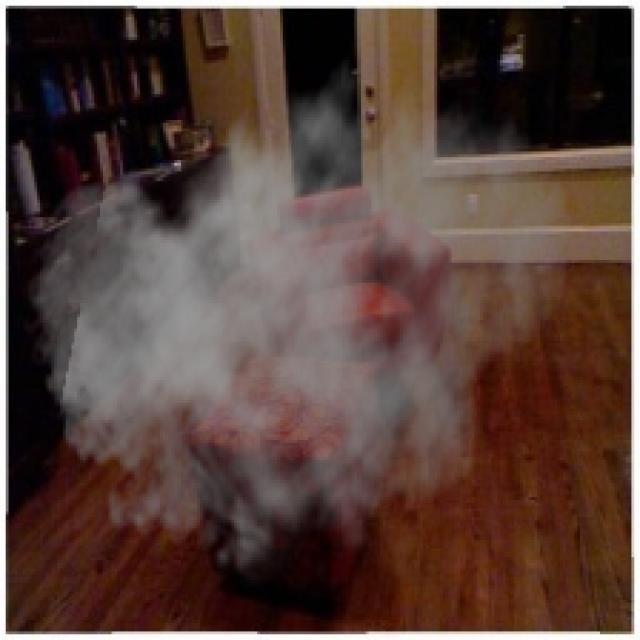smoke: (20, 37, 574, 594)
